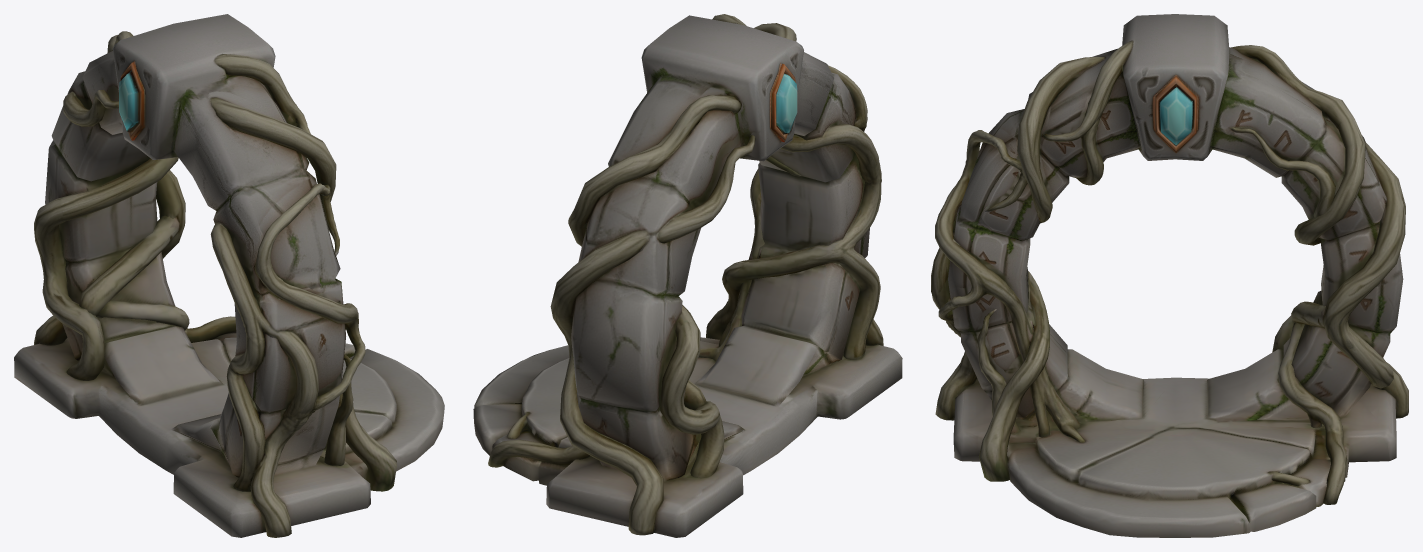
File: expedition-gate.glb
3 views of the same model, side by side, from view 1: azimuth 30°, elevation 25°; view 2: azimuth 150°, elevation 25°; view 3: azimuth 270°, elevation 25° (orthographic). The views are drawn at different scales.
Parts seen in each view (by area): view 1: tripo_node_2a522555-c9b5-4618-93e5-0e28219704af; view 2: tripo_node_2a522555-c9b5-4618-93e5-0e28219704af; view 3: tripo_node_2a522555-c9b5-4618-93e5-0e28219704af.
Part boxes in pixels (box(x1,y1,x2,y2)): tripo_node_2a522555-c9b5-4618-93e5-0e28219704af: box(14, 14, 444, 537); tripo_node_2a522555-c9b5-4618-93e5-0e28219704af: box(473, 14, 902, 537); tripo_node_2a522555-c9b5-4618-93e5-0e28219704af: box(931, 14, 1408, 537).
Size of the model in its own units: 0.7012 by 0.9121 by 0.998.
Materials: 1 (1 with a texture image).
